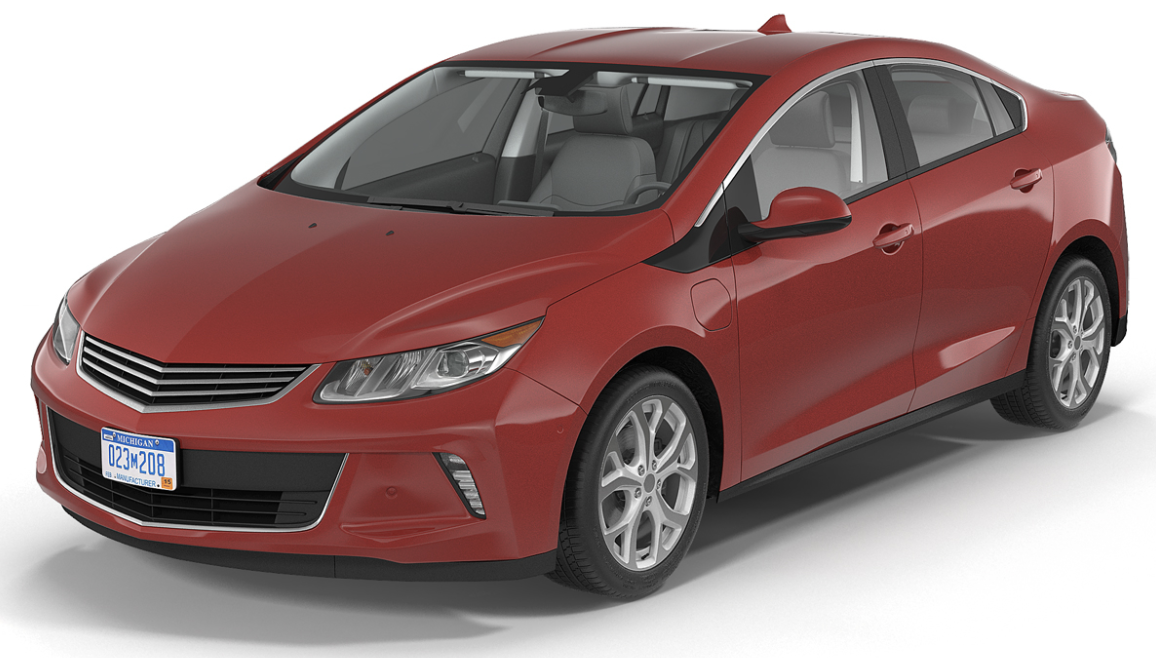hatch: (687, 276, 735, 332)
